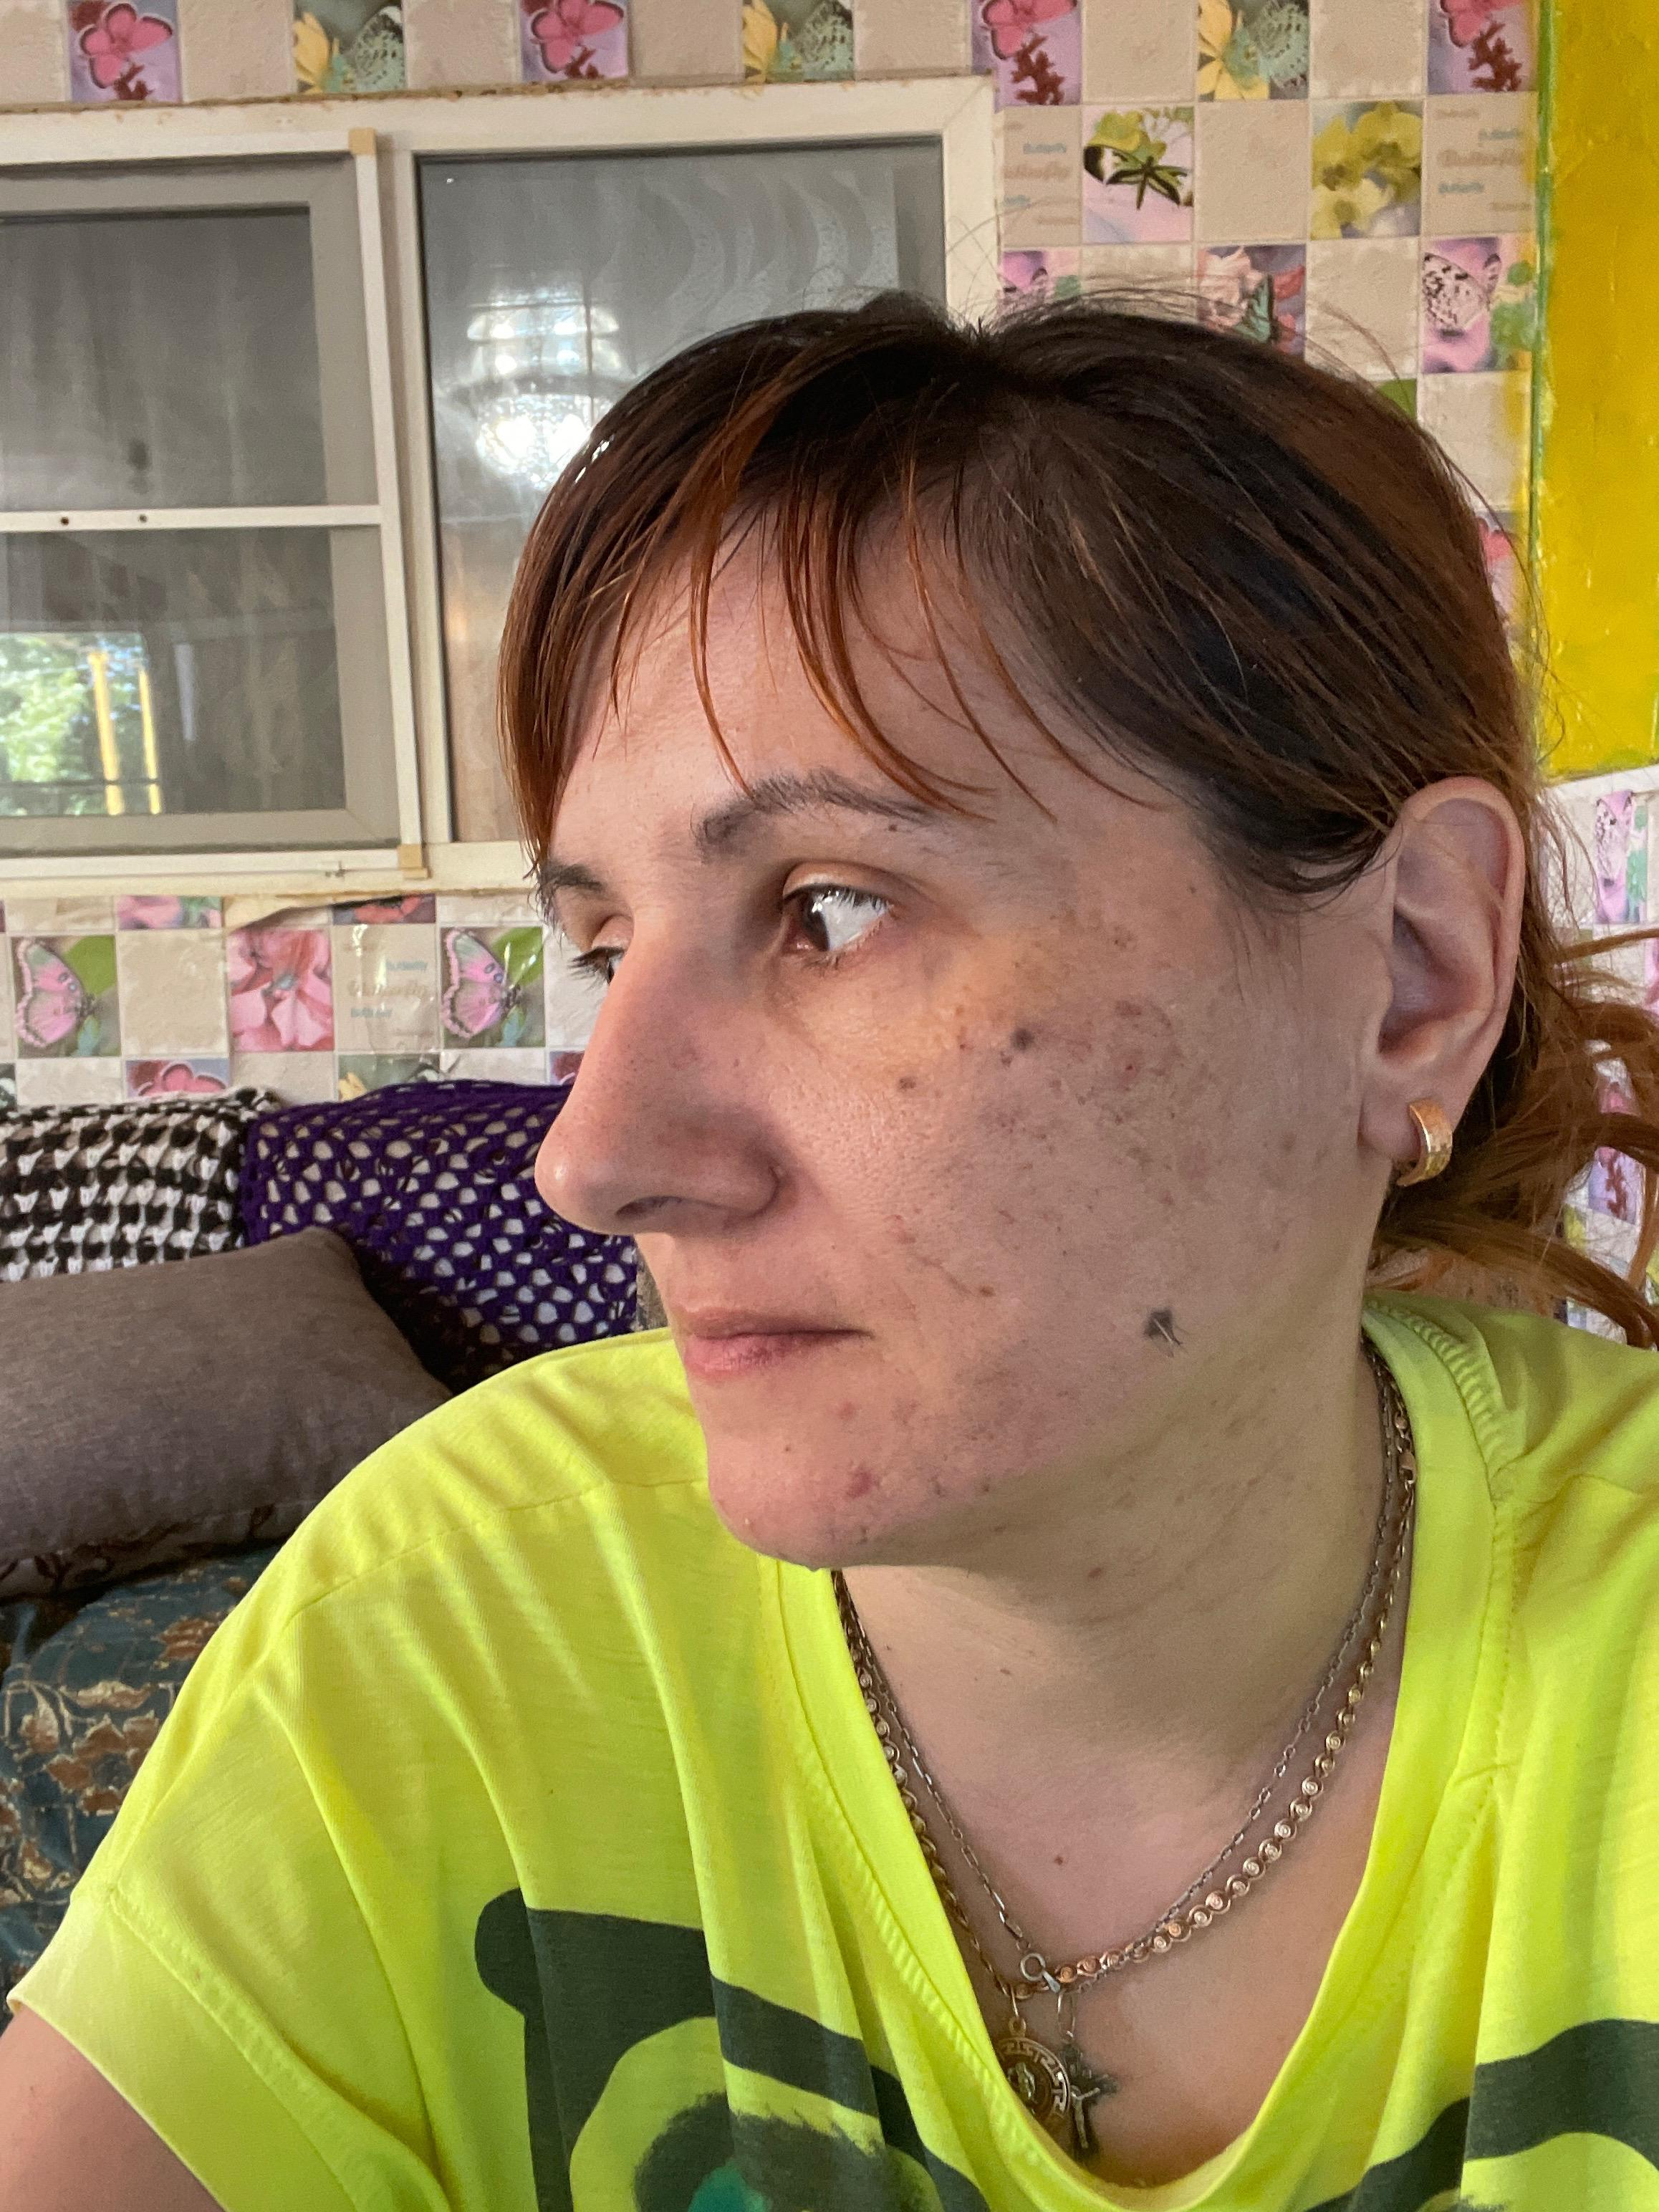Acne: (1042, 899, 1141, 954), (969, 1092, 1056, 1148), (1185, 1137, 1220, 1205), (1147, 1036, 1190, 1089), (1077, 1092, 1141, 1125), (1140, 991, 1182, 1035), (1105, 1045, 1147, 1087), (836, 1461, 878, 1503), (880, 1209, 924, 1249), (826, 1390, 864, 1433), (1107, 993, 1154, 1024), (1037, 1068, 1073, 1103), (1143, 1190, 1176, 1224), (1270, 1122, 1300, 1160), (1126, 1144, 1155, 1176)
Blackheads: (605, 1035, 650, 1113)
Englarged-Pores: (763, 1068, 965, 1186)
Wrinkles: (875, 1261, 931, 1359)
